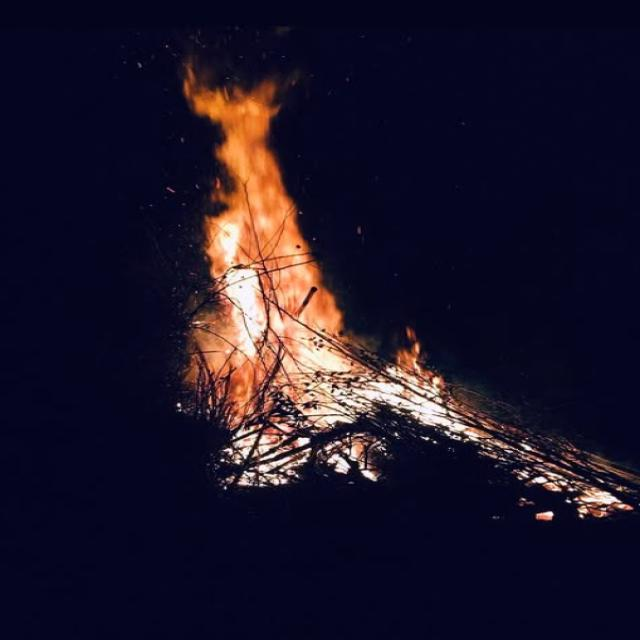fire: (344, 326, 640, 520), (183, 241, 343, 414), (184, 54, 300, 243), (213, 414, 344, 490)
